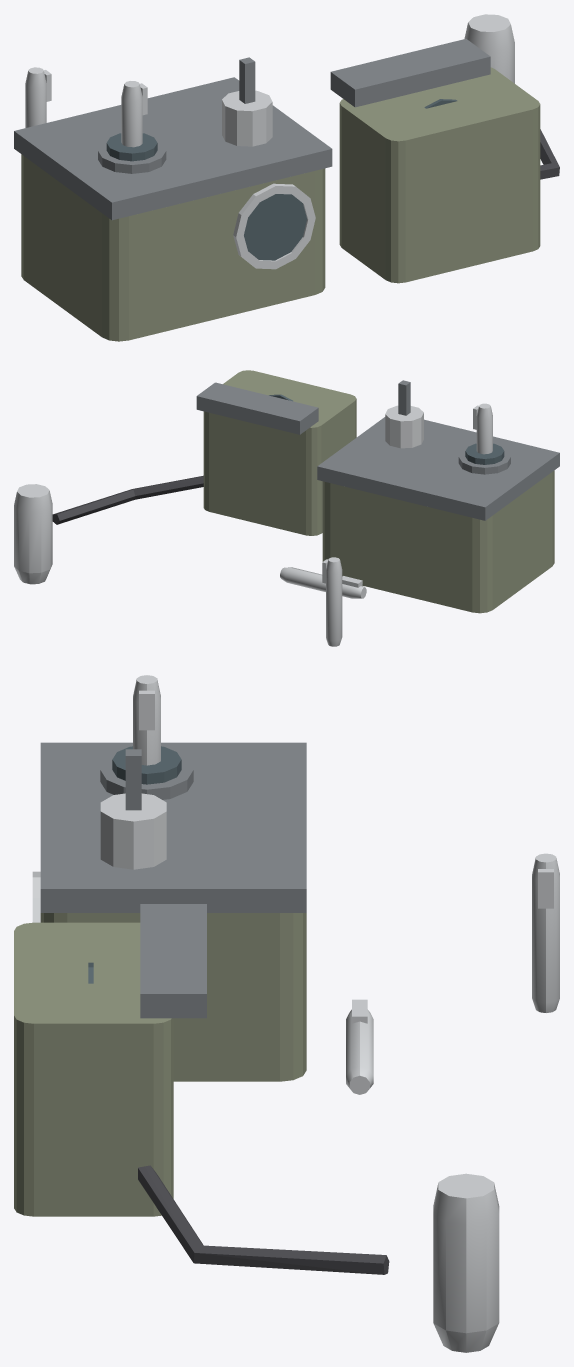
File: cold-war-missile-silo-and-command-bunker-dosimeter-and-a45d3e19__15699.glb
The picture shows the model from 3 angles, top to bottom: view 1: azimuth 30°, elevation 25°; view 2: azimuth 150°, elevation 25°; view 3: azimuth 270°, elevation 25°; orthographic projection. The views are drawn at different scales.
Parts seen in each view (by area): view 1: dosimeter-and-charger; view 2: dosimeter-and-charger; view 3: dosimeter-and-charger.
Boxes of the visible parts, box(x1,y1,x2,y2) form: dosimeter-and-charger: box(14, 14, 559, 341); dosimeter-and-charger: box(14, 370, 559, 646); dosimeter-and-charger: box(14, 675, 559, 1352).
Bounding box in the file's own units: 0.656 × 0.289 × 0.4105.
